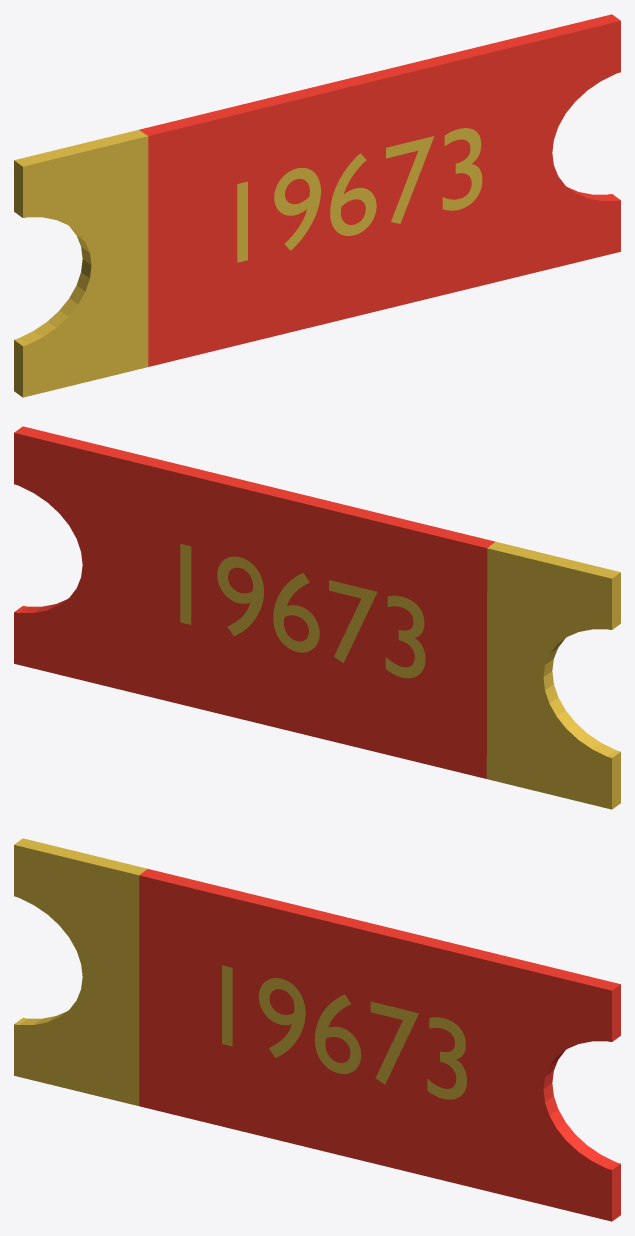
Rendered from foodcoupon8.glb.
3 views of the same model, one above another, from view 1: azimuth 30°, elevation 25°; view 2: azimuth 150°, elevation 25°; view 3: azimuth 330°, elevation 25° (orthographic).
Parts seen in each view (by area): view 1: Cube.007; view 2: Cube.007; view 3: Cube.007.
Boxes of the visible parts, <box> form: Cube.007: <box>14,14,620,397</box>; Cube.007: <box>14,426,620,809</box>; Cube.007: <box>14,838,620,1221</box>.
Bounding box in the file's own units: 5.42 × 2 × 0.2516.
